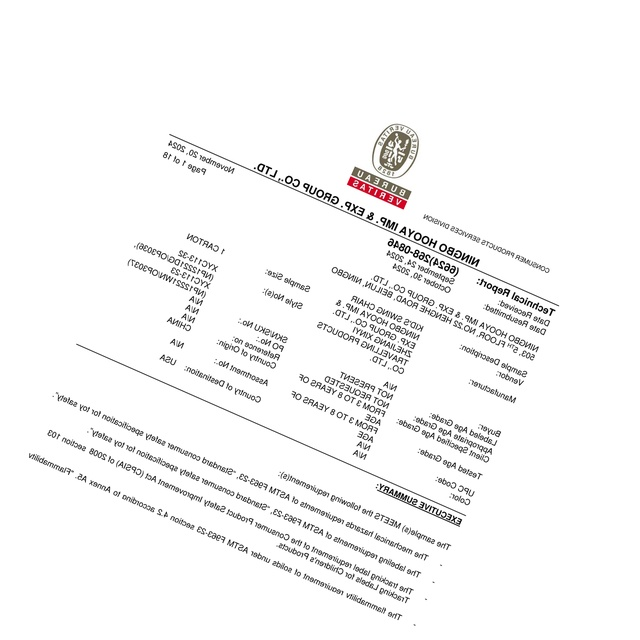bureau_veritas: (347, 118, 419, 211)
